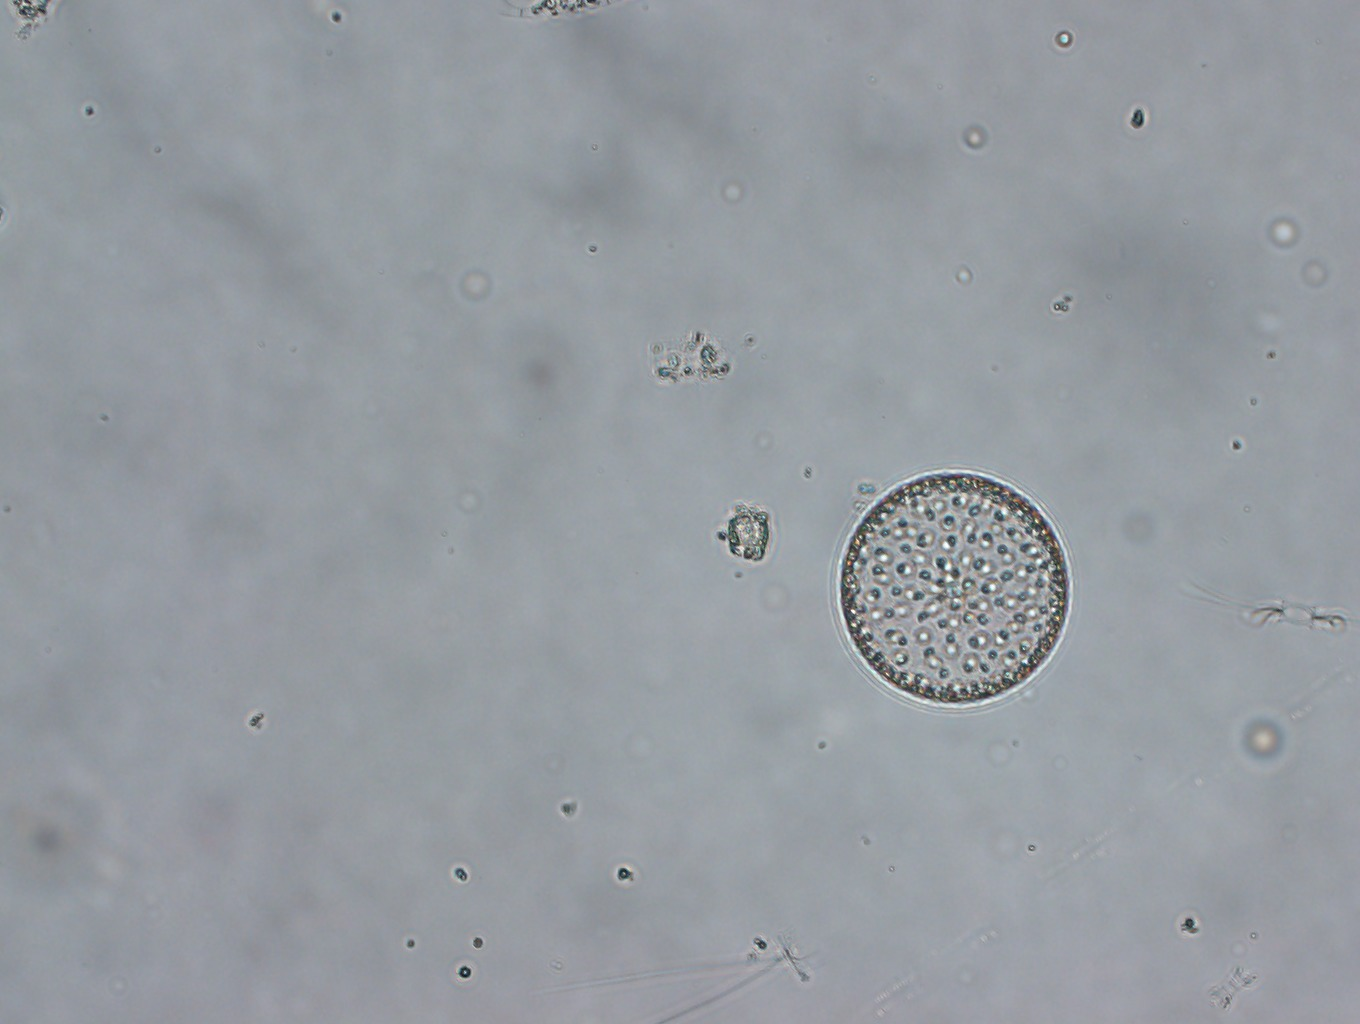coscinodiscus: (838, 470, 1076, 710)
